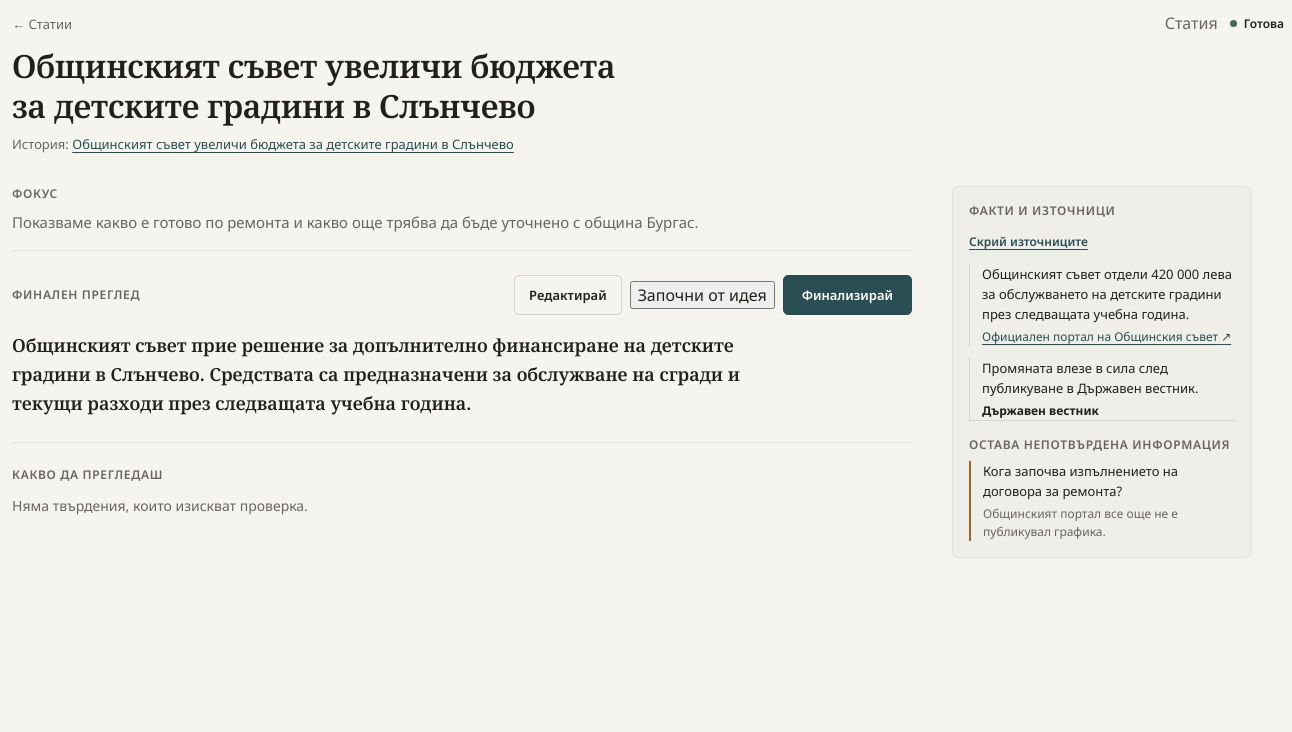
Test case: V1.2-G3 §37 — Ready and Finalized › returns a Ready Article to Draft through the canonical reopen command
Click the button "Редактирай".
click(568, 295)  # box left=514, top=275, right=622, bottom=315
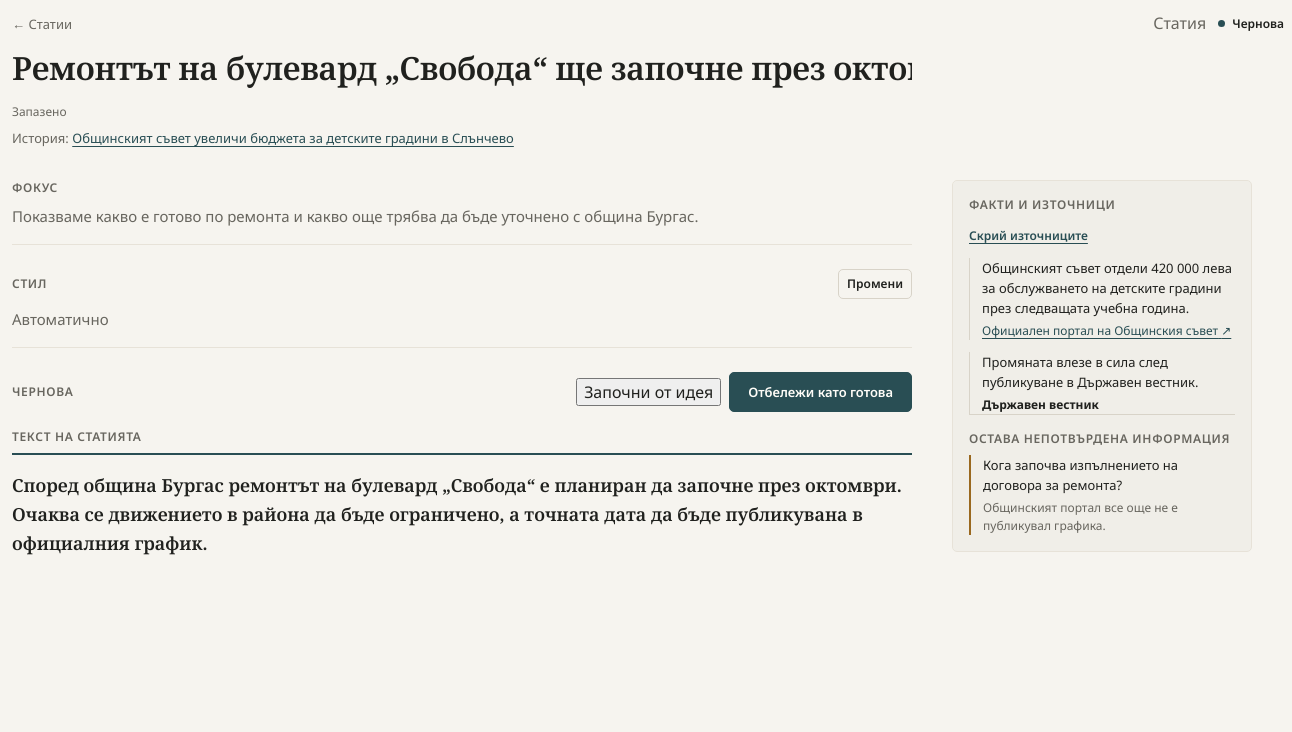
Now the heading "Чернова" is shown, box left=12, top=384, right=74, bottom=400
